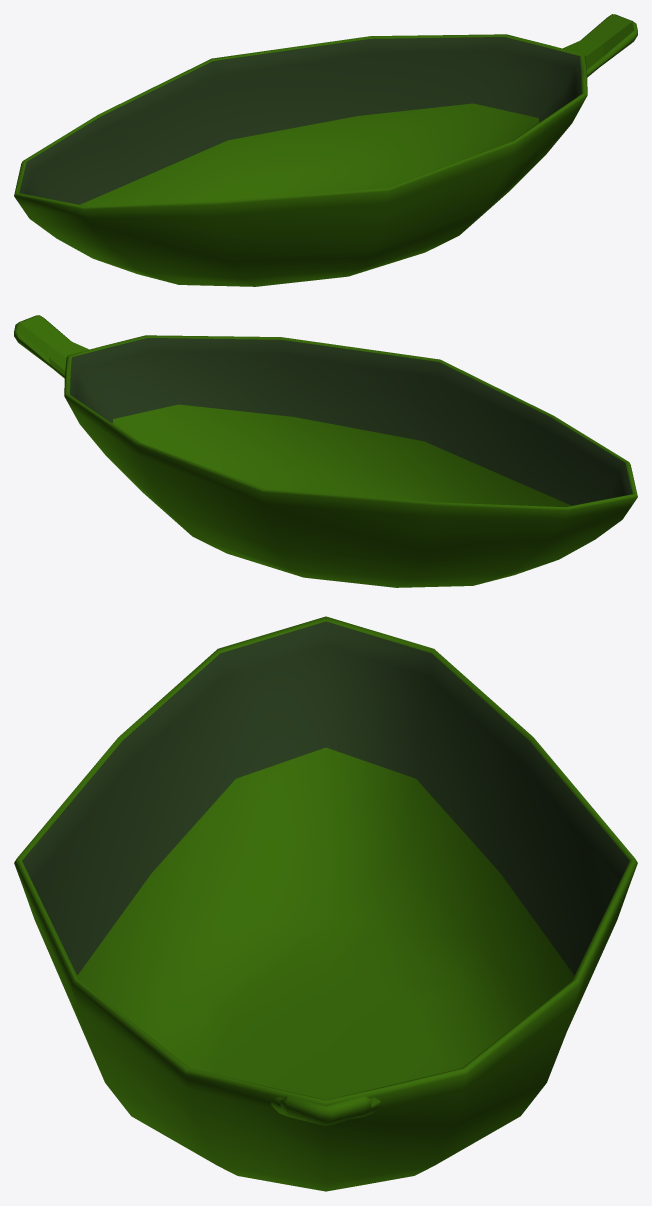
File: bowl_leaf.fbx
The picture shows the model from 3 angles, top to bottom: view 1: azimuth 30°, elevation 25°; view 2: azimuth 150°, elevation 25°; view 3: azimuth 270°, elevation 25°; orthographic projection. The views are drawn at different scales.
Parts seen in each view (by area): view 1: bowlLeaf; view 2: bowlLeaf; view 3: bowlLeaf.
Boxes of the visible parts, left/top/right/bottom form: bowlLeaf: left=14, top=14, right=637, bottom=286; bowlLeaf: left=14, top=315, right=637, bottom=587; bowlLeaf: left=14, top=616, right=637, bottom=1191.
Size of the model in its own units: 183 by 40.45 by 91.26.
